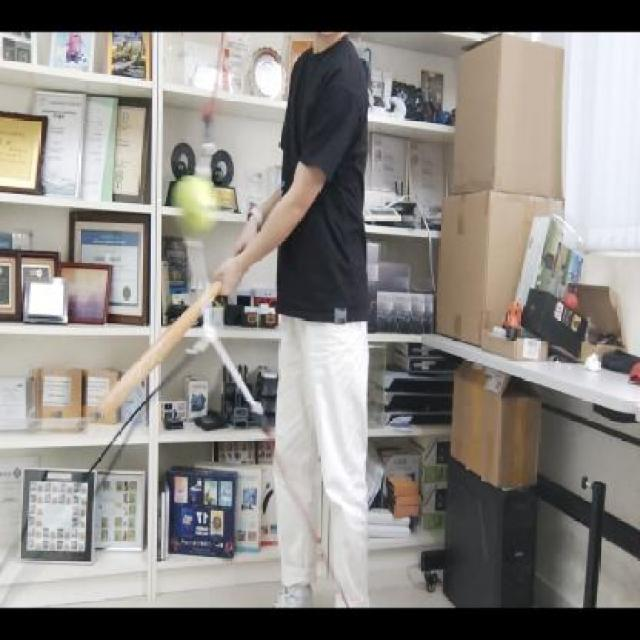baseball: (172, 172, 218, 233)
